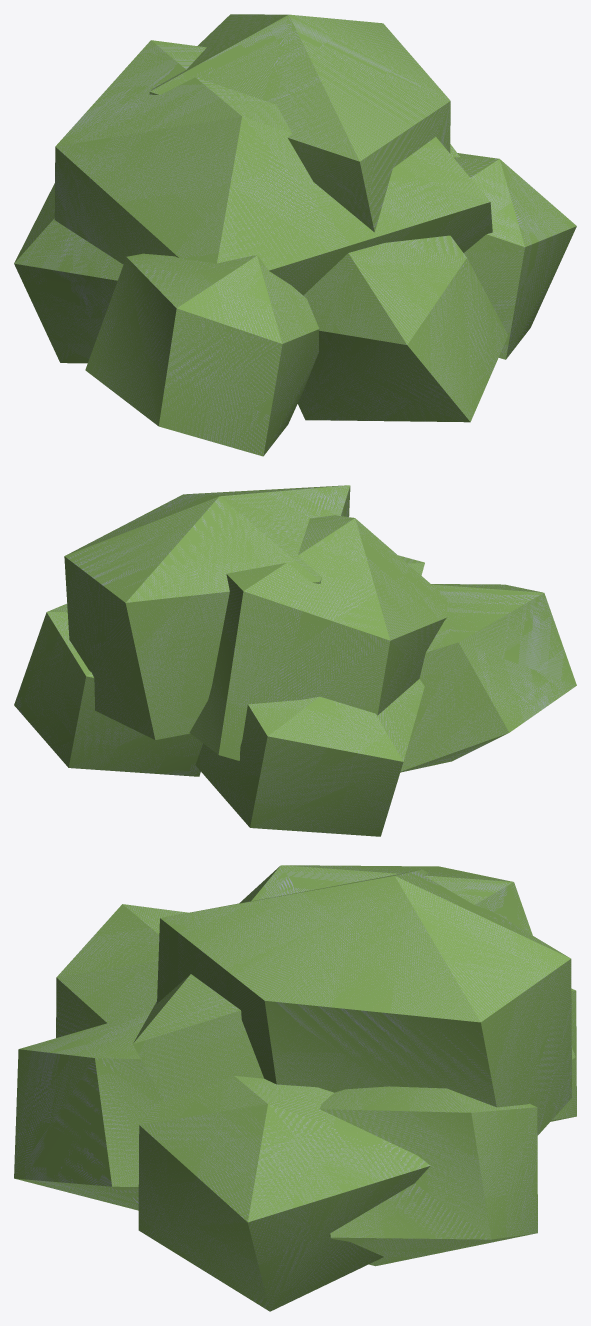
File: Bush_Large_01.fbx
3 views of the same model, one above another, from view 1: azimuth 30°, elevation 25°; view 2: azimuth 150°, elevation 25°; view 3: azimuth 270°, elevation 25° (orthographic). The views are drawn at different scales.
Visible parts, largest first — view 1: Model; view 2: Model; view 3: Model.
Part boxes in pixels (bbox=[...]): Model: bbox=[14, 14, 576, 456]; Model: bbox=[14, 485, 576, 836]; Model: bbox=[14, 865, 576, 1311].
Size of the model in its own units: 345 by 214 by 322.
